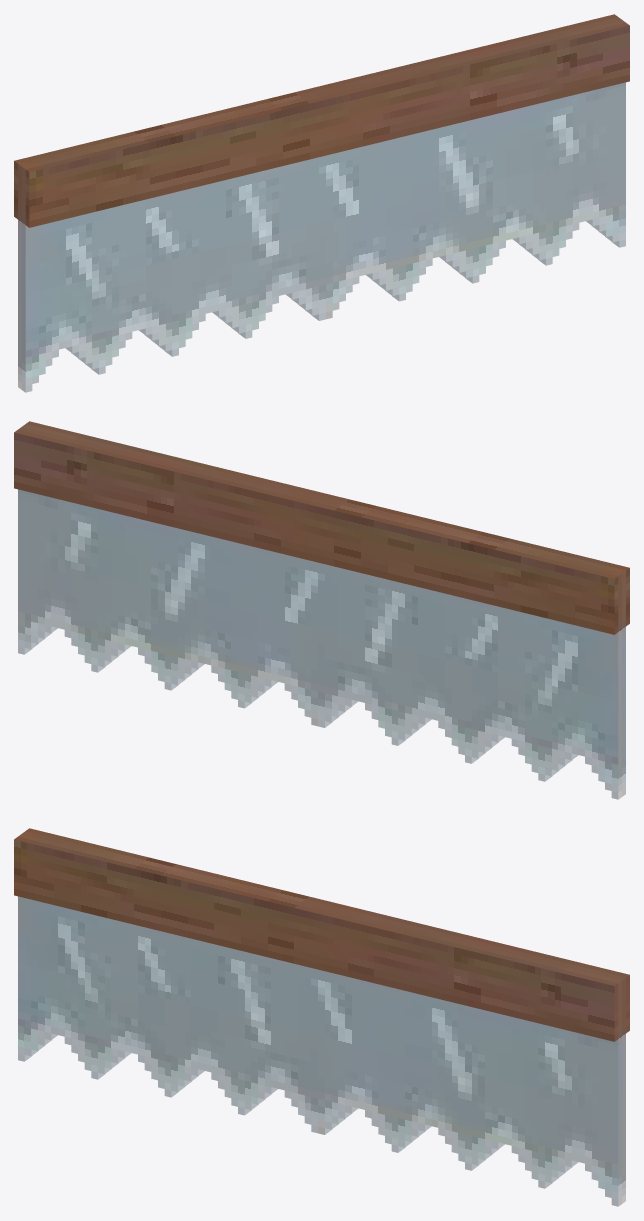
File: trap-7_2.glb
3 renders of one model, top to bottom at view 1: azimuth 30°, elevation 25°; view 2: azimuth 150°, elevation 25°; view 3: azimuth 330°, elevation 25°, orthographic.
Visible parts, largest first — view 1: Trap$$7-Local; view 2: Trap$$7-Local; view 3: Trap$$7-Local.
Part boxes in pixels (box(x1,y1,x2,y2)): Trap$$7-Local: box(14, 14, 629, 392); Trap$$7-Local: box(14, 421, 629, 799); Trap$$7-Local: box(14, 828, 629, 1206).
Size of the model in its own units: 22.5 by 8 by 0.9998.
1 material, 1 textured.
